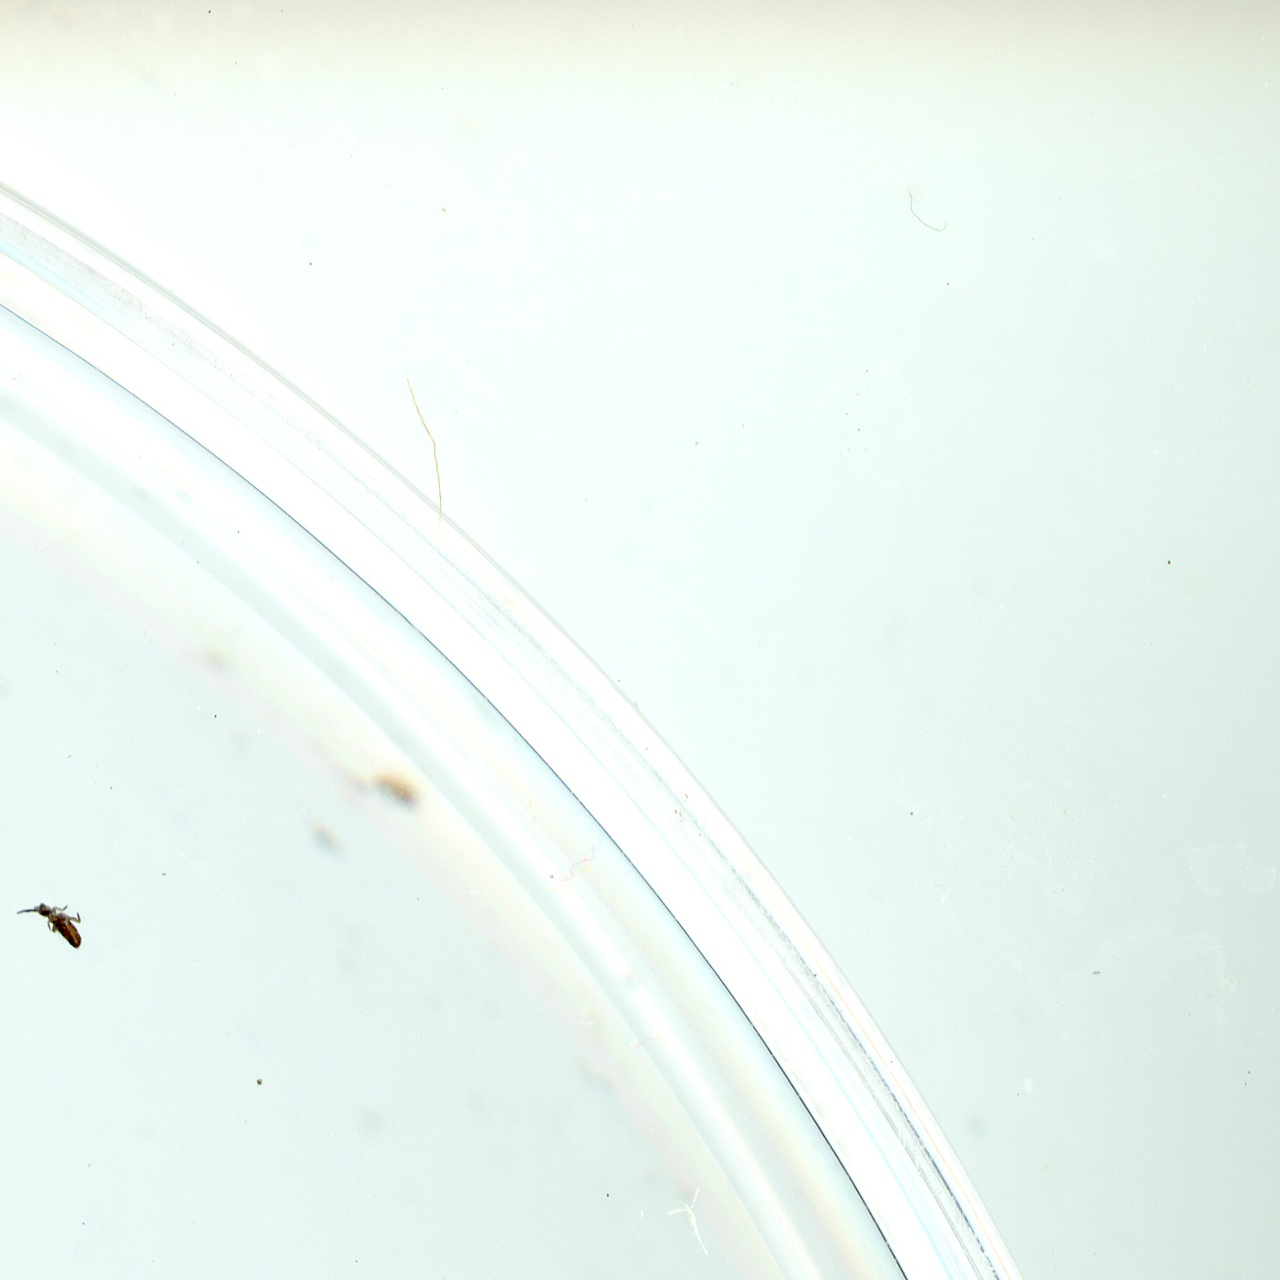arthropod: (14, 892, 86, 954)
